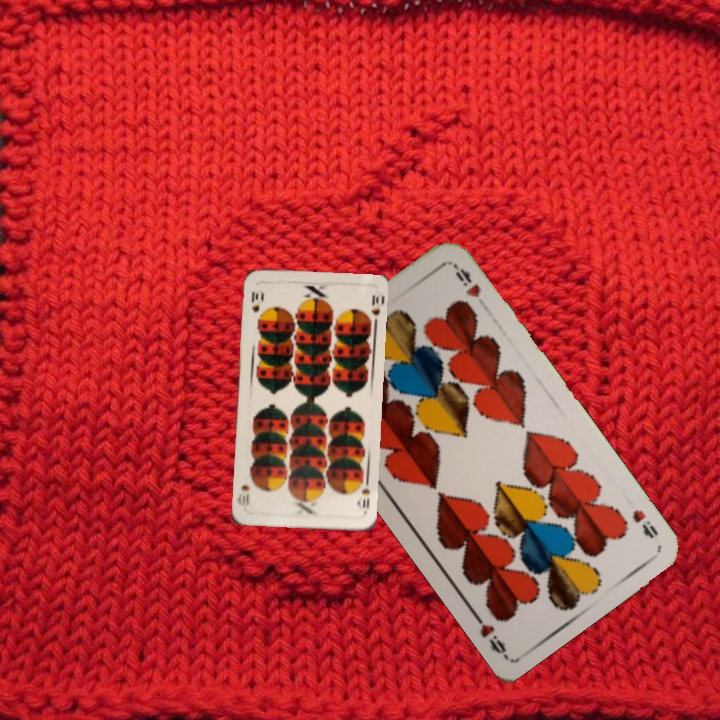H9: (628, 505, 661, 542)
S10: (358, 476, 372, 511), (247, 287, 264, 315)
